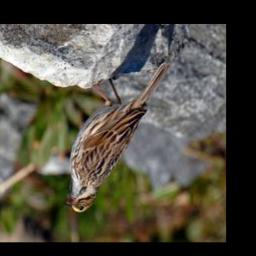Sparrow: (63, 58, 170, 214)
